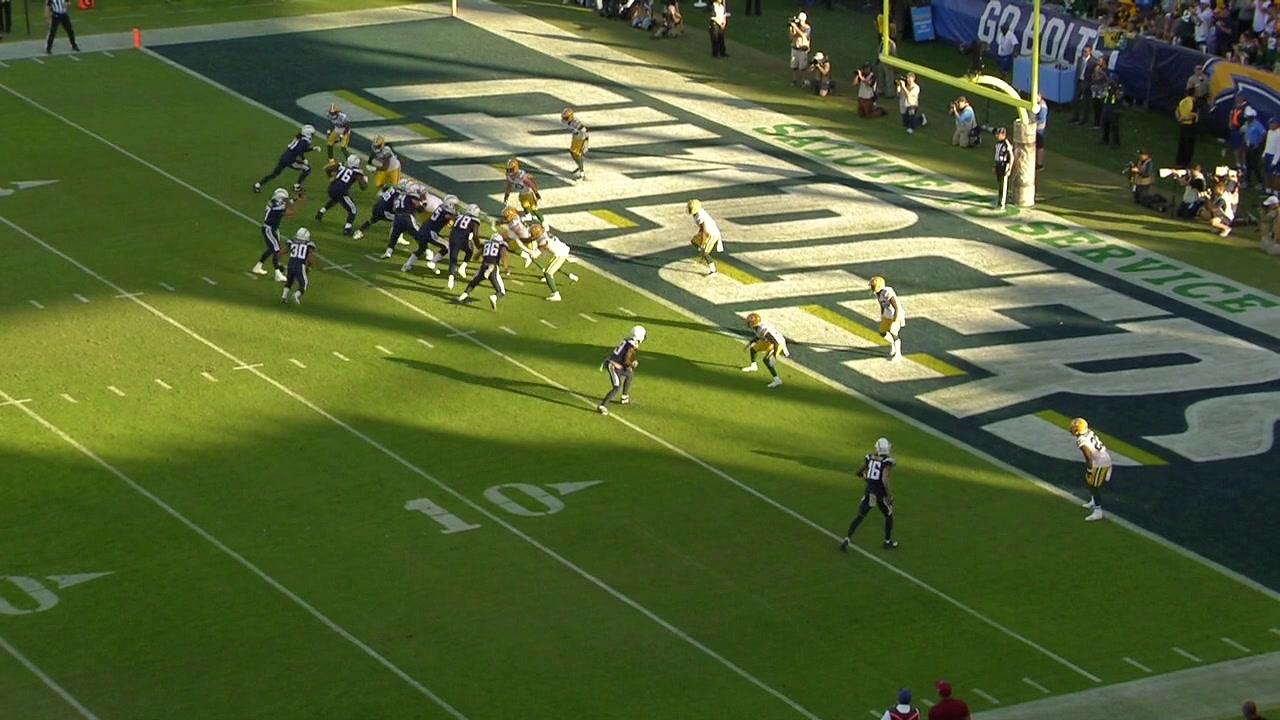player: (835, 432, 902, 557), (249, 185, 307, 284), (589, 323, 648, 420), (1066, 414, 1116, 524), (515, 223, 582, 303), (250, 123, 322, 195), (398, 194, 461, 274), (314, 153, 371, 239), (490, 207, 551, 284), (452, 232, 510, 312), (377, 182, 434, 261), (351, 177, 413, 247), (439, 201, 484, 291), (740, 310, 789, 390), (865, 273, 906, 366), (500, 156, 550, 232), (276, 227, 319, 307), (684, 197, 725, 280), (420, 189, 476, 241), (557, 106, 591, 183), (364, 133, 402, 196), (322, 103, 351, 171)
ref: (34, 0, 91, 59), (986, 125, 1018, 216)
